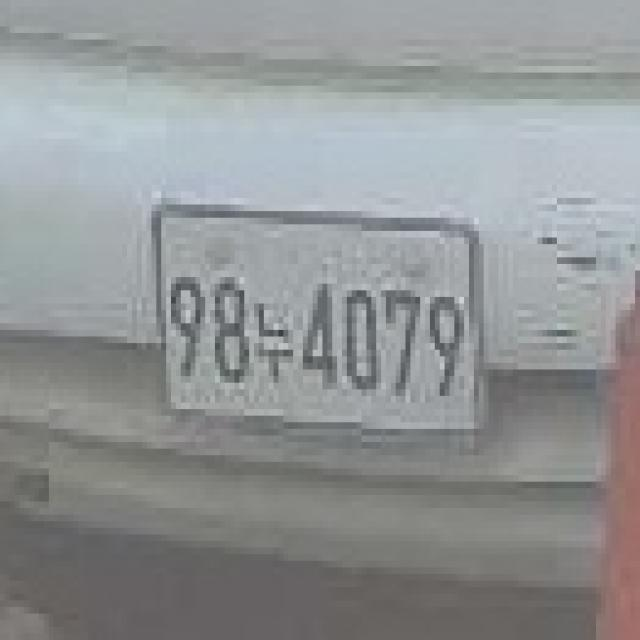0: (344, 281, 384, 399)
4: (300, 274, 340, 391)
7: (386, 282, 422, 400)
8: (210, 270, 252, 384)
9: (428, 290, 468, 402), (167, 270, 206, 380)
license_plate: (149, 200, 485, 437)
nu: (257, 294, 295, 384)
